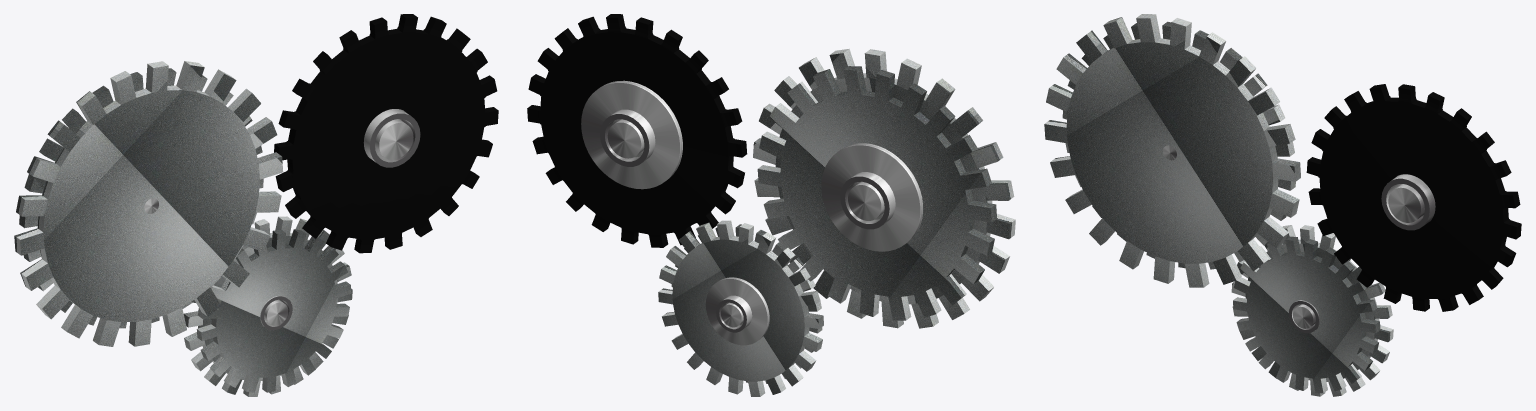
The picture shows the model from 3 angles, left to right: view 1: azimuth 30°, elevation 25°; view 2: azimuth 150°, elevation 25°; view 3: azimuth 330°, elevation 25°; orthographic projection. The views are drawn at different scales.
Parts seen in each view (by area): view 1: Gear2, Gear5, Gear3, Gear4, Gear1, obj10, obj9, obj6, obj7; view 2: Gear1, Gear5, Gear4, Gear2, obj5, obj11, obj8, obj4, obj10, obj3, obj9, Gear3 (+2 smaller); view 3: Gear2, Gear5, Gear3, Gear4, Gear1, obj10, obj9, obj6.
Boxes of the visible parts, x1=… form: Gear2: x1=14, y1=61, x2=283, y2=346; Gear5: x1=274, y1=14, x2=498, y2=253; Gear3: x1=196, y1=229, x2=351, y2=392; Gear4: x1=183, y1=216, x2=352, y2=396; Gear1: x1=19, y1=68, x2=263, y2=328; obj10: x1=363, y1=109, x2=420, y2=167; obj9: x1=375, y1=119, x2=413, y2=159; obj6: x1=264, y1=299, x2=288, y2=325; obj7: x1=260, y1=295, x2=292, y2=330; Gear1: x1=757, y1=66, x2=996, y2=320; Gear5: x1=527, y1=14, x2=747, y2=247; Gear4: x1=658, y1=220, x2=823, y2=396; Gear2: x1=753, y1=48, x2=1015, y2=328; obj5: x1=821, y1=143, x2=922, y2=251; obj11: x1=581, y1=80, x2=682, y2=189; obj8: x1=705, y1=277, x2=769, y2=345; obj4: x1=840, y1=172, x2=895, y2=229; obj10: x1=600, y1=109, x2=655, y2=166; obj3: x1=848, y1=181, x2=884, y2=220; obj9: x1=607, y1=119, x2=644, y2=158; Gear3: x1=671, y1=224, x2=822, y2=383; Gear2: x1=1044, y1=14, x2=1300, y2=287; Gear5: x1=1306, y1=84, x2=1521, y2=311; Gear3: x1=1233, y1=236, x2=1380, y2=393; Gear4: x1=1231, y1=225, x2=1393, y2=396; Gear1: x1=1062, y1=21, x2=1295, y2=269; obj10: x1=1381, y1=174, x2=1435, y2=230; obj9: x1=1388, y1=184, x2=1424, y2=222; obj6: x1=1293, y1=304, x2=1315, y2=328.
Size of the model in its own units: 450 by 326 by 42.89.
